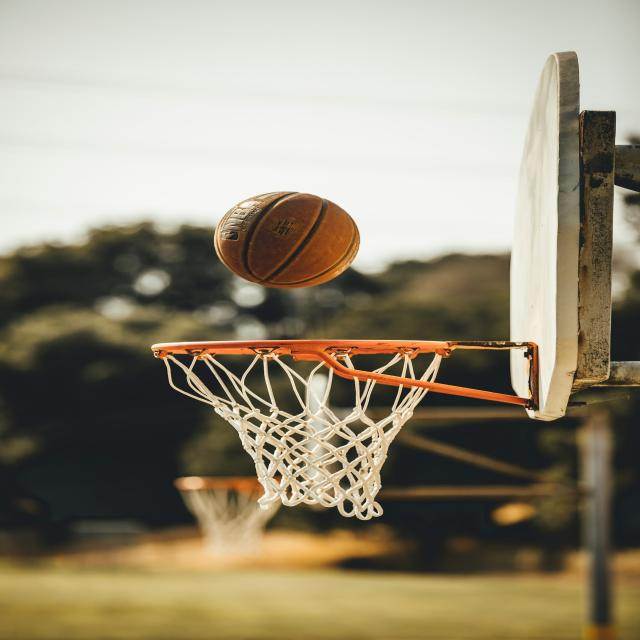Basketball: (213, 191, 359, 288)
